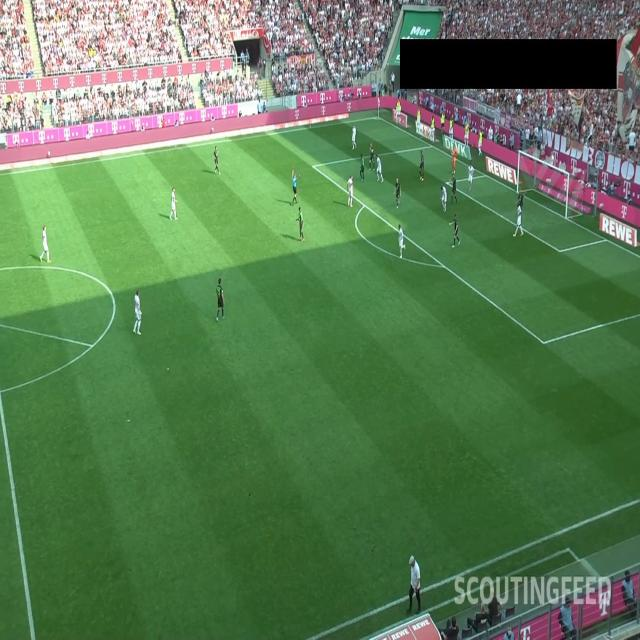ball: (451, 151, 454, 157)
